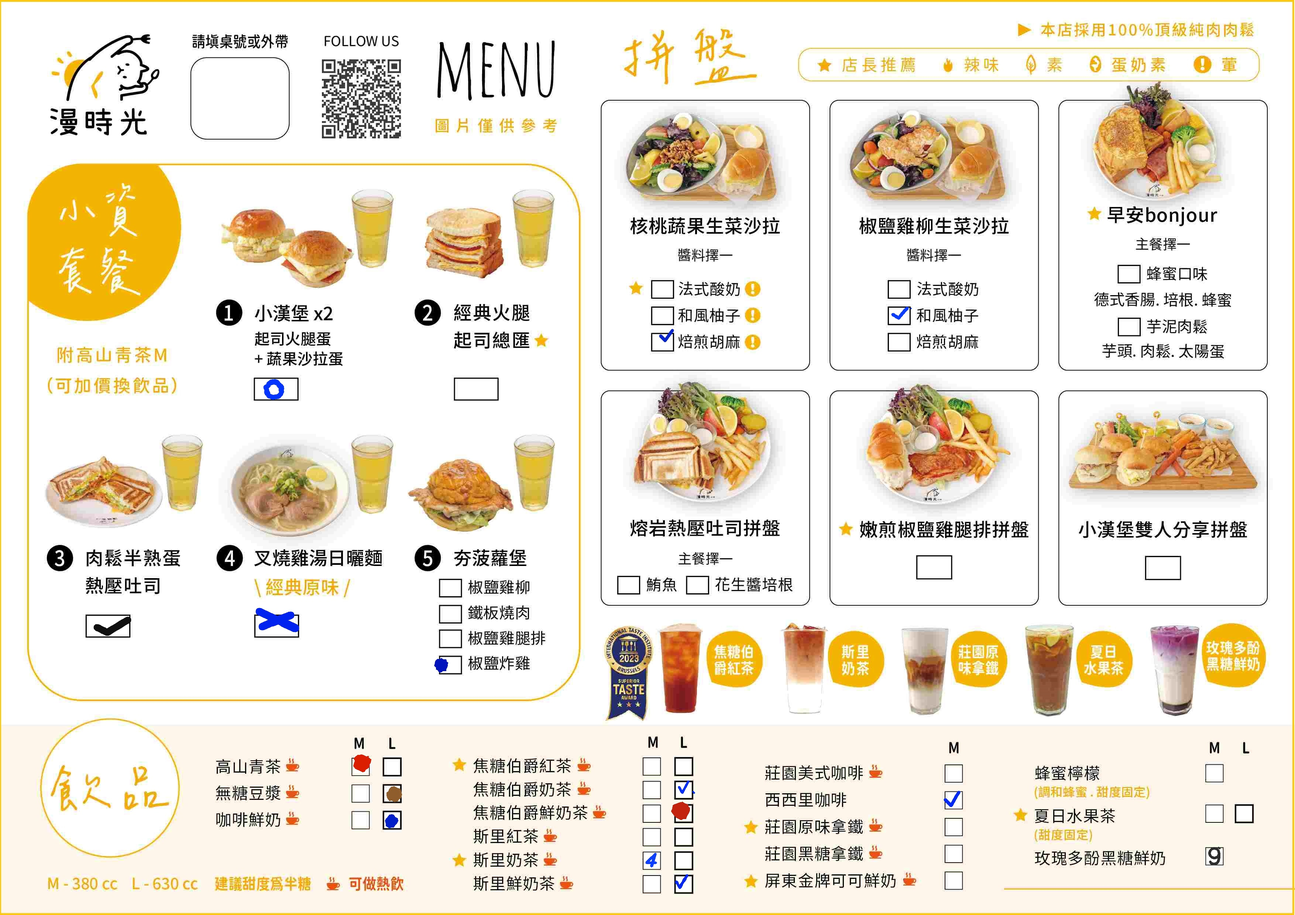marked_circle: (439, 655, 461, 672), (351, 759, 368, 777), (382, 811, 399, 828), (675, 804, 692, 821), (384, 784, 401, 801)
marked_hollow: (255, 379, 298, 398)
marked_number_4: (642, 852, 659, 869)
marked_number_9: (1205, 847, 1222, 865)
marked_tick: (86, 616, 130, 635), (651, 331, 673, 349), (889, 306, 911, 324), (945, 792, 962, 810), (676, 782, 693, 800), (675, 874, 692, 891)
marked_x: (254, 616, 297, 635)
